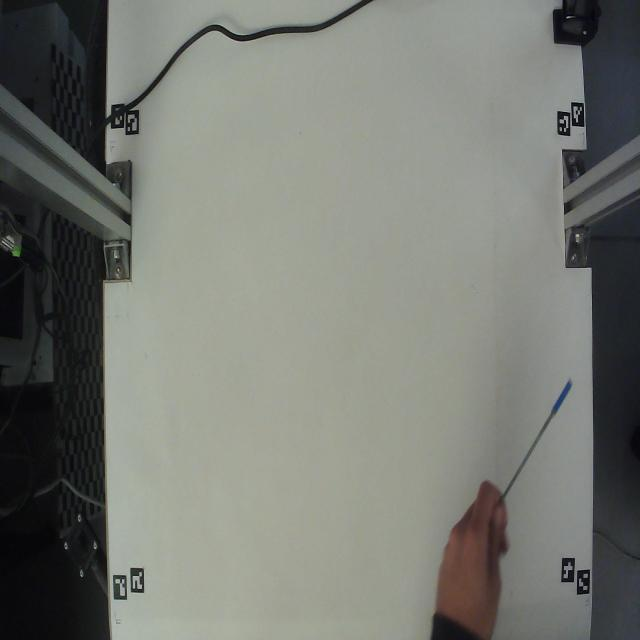NoPres: (491, 372, 579, 516)
